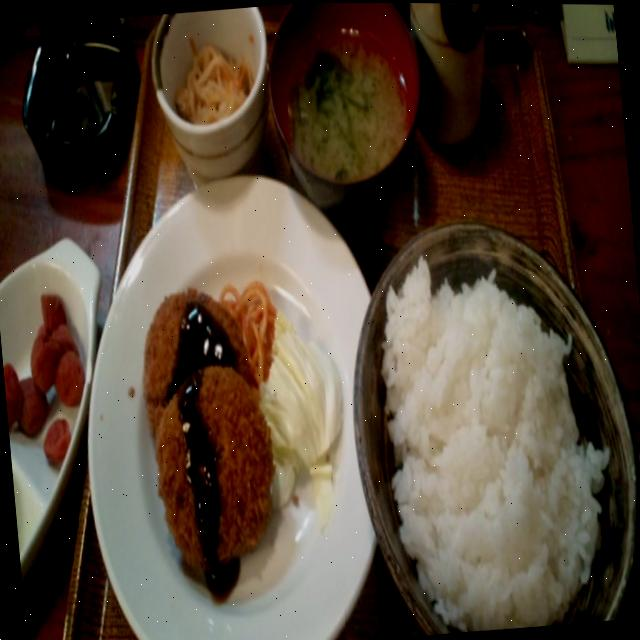汤锅炖物: (277, 15, 427, 195)
炸货点心: (123, 273, 297, 569)
米饭主食: (358, 235, 628, 639)
